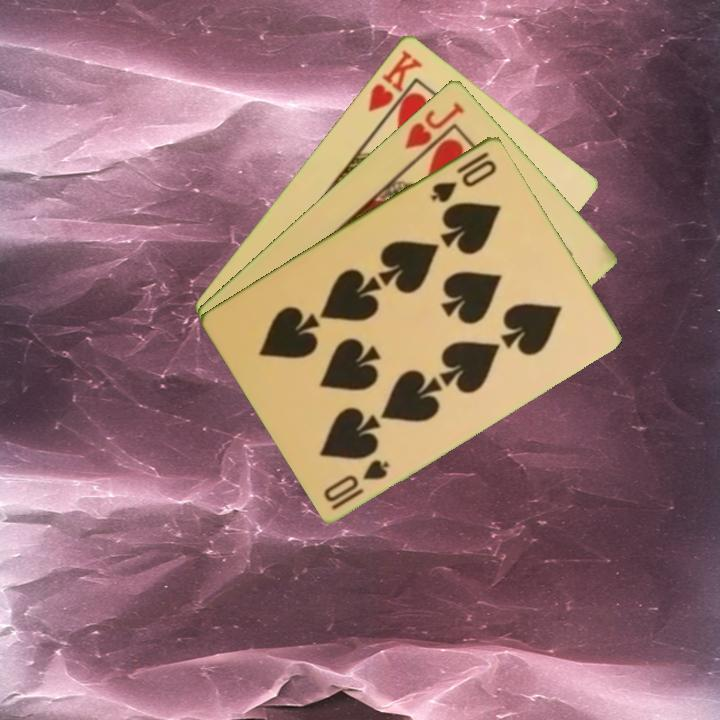10s: (426, 147, 500, 206), (320, 455, 392, 513)
Jh: (401, 97, 467, 152)
Kh: (364, 45, 425, 127)
